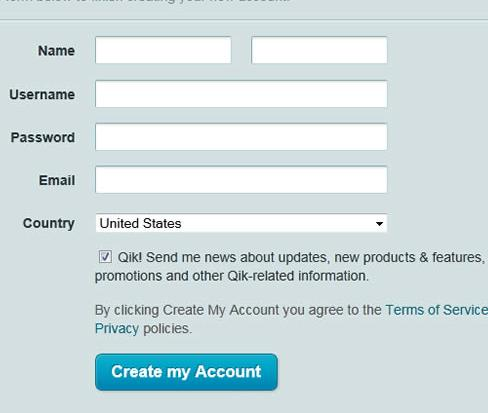button: (94, 352, 279, 391)
checkbox: (98, 250, 115, 263)
checkbox_with_label: (95, 246, 485, 265)
field: (93, 78, 388, 109), (92, 122, 388, 151), (93, 165, 388, 194), (95, 213, 388, 233), (250, 35, 389, 64), (95, 35, 232, 64)
field_with_label: (11, 77, 390, 111), (10, 121, 391, 153), (38, 163, 391, 196), (23, 211, 392, 236), (39, 33, 234, 65)
